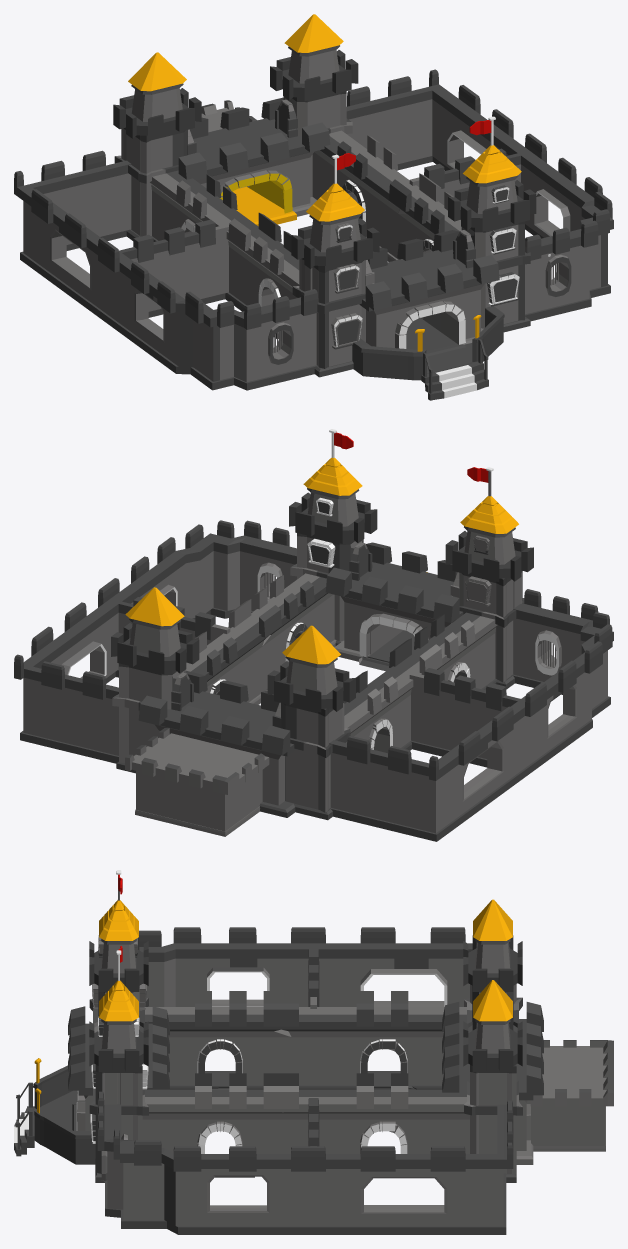
Rendered from Castle_03.glb.
The picture shows the model from 3 angles, top to bottom: view 1: azimuth 30°, elevation 25°; view 2: azimuth 150°, elevation 25°; view 3: azimuth 270°, elevation 25°; orthographic projection. The views are drawn at different scales.
Visible parts, largest first — view 1: Walls, Walls.001; view 2: Walls, Walls.001; view 3: Walls, Walls.001.
Part boxes in pixels (x1=…): Walls: x1=14, y1=14, x2=613, y2=400; Walls.001: x1=487, y1=185, x2=519, y2=306; Walls: x1=14, y1=429, x2=613, y2=841; Walls.001: x1=307, y1=497, x2=335, y2=567; Walls: x1=14, y1=870, x2=613, y2=1234; Walls.001: x1=90, y1=1016, x2=148, y2=1143.
Bounding box in the file's own units: 41.2 × 20.04 × 47.12.
